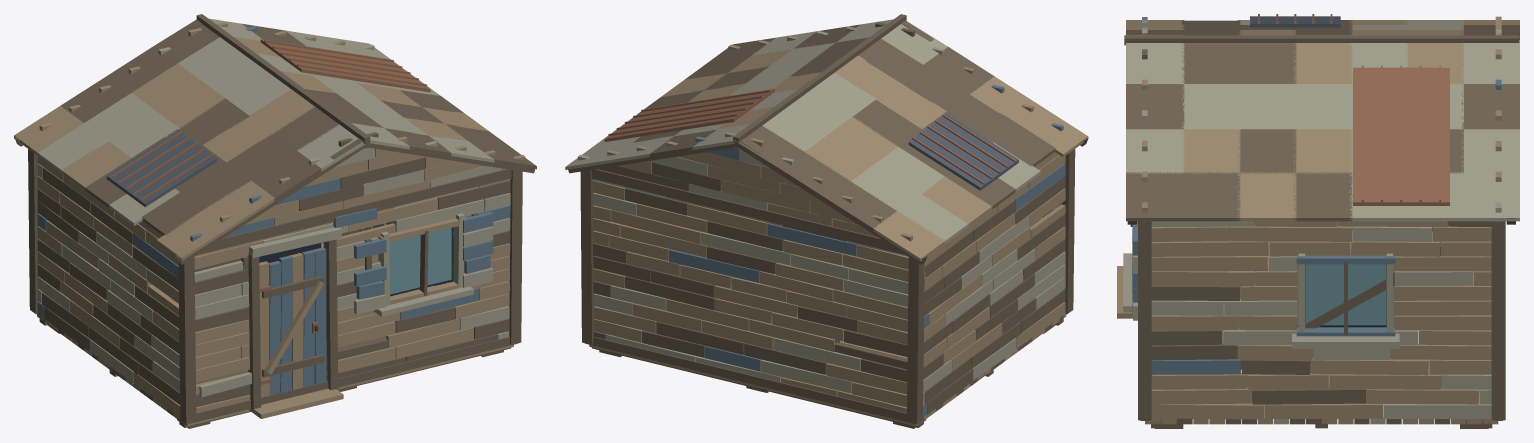
The model's file is bld_residential_a.glb.
3 views of the same model, side by side, from view 1: azimuth 30°, elevation 25°; view 2: azimuth 150°, elevation 25°; view 3: azimuth 270°, elevation 25° (orthographic). The views are drawn at different scales.
Visible parts, largest first — view 1: bld_residential_a, bld_residential_a__Roof old iron repair 0, bld_residential_a__Hut upper wall beam -1.975, bld_residential_a__Front window dull glass, bld_residential_a__Roof old iron repair 1, bld_residential_a__Hut horizontal wall beam -1.975, bld_residential_a__Hut corner post -2.475_-1.975, bld_residential_a__Hut corner post 2.475_-1.975, bld_residential_a__Roof ridge weathered cap, bld_residential_a__Door skewed upright 1, bld_residential_a__Door skewed upright -1, bld_residential_a__Hut corner post -2.475_1.975 (+85 smaller); view 2: bld_residential_a, bld_residential_a__Roof old iron repair 0, bld_residential_a__Hut upper wall beam 1.975, bld_residential_a__Hut horizontal wall beam 1.975, bld_residential_a__Roof old iron repair 1, bld_residential_a__Hut corner post -2.475_1.975, bld_residential_a__Hut corner post 2.475_1.975, bld_residential_a__Roof ridge weathered cap, bld_residential_a__Hut corner post -2.475_-1.975, bld_residential_a__Rear row 8 plank 2, bld_residential_a__Rear row 1 plank 1, bld_residential_a__Rear row 10 plank 2 (+92 smaller); view 3: bld_residential_a, bld_residential_a__Roof old iron repair 1, bld_residential_a__Side window dull panes, bld_residential_a__Roof ridge weathered cap, bld_residential_a__Hut corner post 2.475_1.975, bld_residential_a__Hut corner post 2.475_-1.975, bld_residential_a__Side 1 row 12 part 0 plank 1, bld_residential_a__Side 1 row 11 part 0 plank 0, bld_residential_a__Side 1 row 10 part 0 plank 0, bld_residential_a__Side 1 row 3 part 0 plank 2, bld_residential_a__Side 1 row 0 part 0 plank 1, bld_residential_a__Side 1 row 1 part 0 plank 1 (+53 smaller).
Boxes of the visible parts, x1,y1,x2,y2 form: bld_residential_a: (14, 18, 536, 260); bld_residential_a__Roof old iron repair 0: (106, 130, 217, 207); bld_residential_a__Hut upper wall beam -1.975: (198, 169, 511, 254); bld_residential_a__Front window dull glass: (389, 228, 451, 294); bld_residential_a__Roof old iron repair 1: (260, 39, 430, 92); bld_residential_a__Hut horizontal wall beam -1.975: (187, 337, 518, 424); bld_residential_a__Hut corner post -2.475_-1.975: (178, 257, 196, 424); bld_residential_a__Hut corner post 2.475_-1.975: (509, 170, 522, 344); bld_residential_a__Roof ridge weathered cap: (196, 14, 370, 143); bld_residential_a__Door skewed upright 1: (323, 239, 338, 390); bld_residential_a__Door skewed upright -1: (247, 253, 261, 409); bld_residential_a__Hut corner post -2.475_1.975: (28, 149, 38, 313); bld_residential_a: (565, 19, 1088, 261); bld_residential_a__Roof old iron repair 0: (908, 114, 1018, 190); bld_residential_a__Hut upper wall beam 1.975: (591, 169, 904, 254); bld_residential_a__Hut horizontal wall beam 1.975: (585, 337, 915, 424); bld_residential_a__Roof old iron repair 1: (604, 89, 774, 141); bld_residential_a__Hut corner post -2.475_1.975: (906, 257, 924, 424); bld_residential_a__Hut corner post 2.475_1.975: (580, 170, 594, 344); bld_residential_a__Roof ridge weathered cap: (733, 14, 906, 142); bld_residential_a__Hut corner post -2.475_-1.975: (1058, 149, 1075, 313); bld_residential_a__Rear row 8 plank 2: (668, 249, 759, 282); bld_residential_a__Rear row 1 plank 1: (760, 359, 851, 393); bld_residential_a__Rear row 10 plank 2: (700, 232, 790, 265); bld_residential_a: (1126, 20, 1519, 221); bld_residential_a__Roof old iron repair 1: (1353, 67, 1449, 205); bld_residential_a__Side window dull panes: (1305, 264, 1386, 325); bld_residential_a__Roof ridge weathered cap: (1124, 35, 1519, 45); bld_residential_a__Hut corner post 2.475_1.975: (1491, 221, 1505, 420); bld_residential_a__Hut corner post 2.475_-1.975: (1138, 221, 1151, 420); bld_residential_a__Side 1 row 12 part 0 plank 1: (1230, 225, 1351, 241); bld_residential_a__Side 1 row 11 part 0 plank 0: (1151, 240, 1268, 256); bld_residential_a__Side 1 row 10 part 0 plank 0: (1151, 256, 1267, 271); bld_residential_a__Side 1 row 3 part 0 plank 2: (1311, 358, 1428, 375); bld_residential_a__Side 1 row 0 part 0 plank 1: (1265, 402, 1382, 419); bld_residential_a__Side 1 row 1 part 0 plank 1: (1252, 388, 1366, 404).
Bounding box in the file's own units: 5.43 × 3.77 × 4.5.
